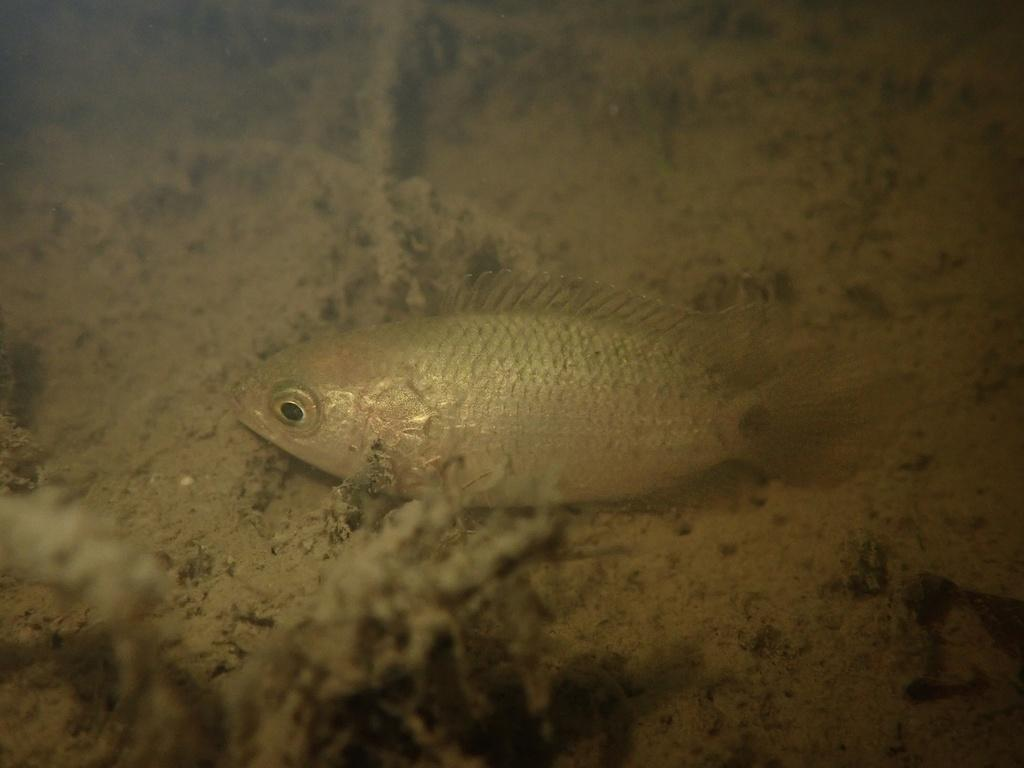Climbing Perch: (233, 260, 896, 514)
